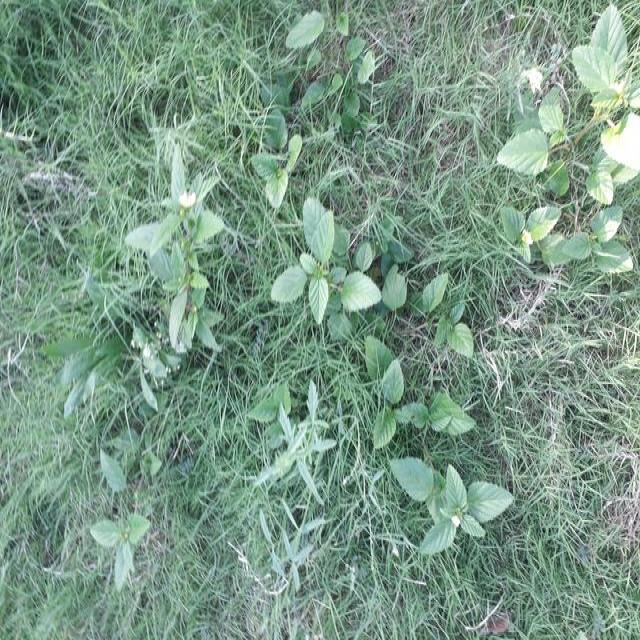weed: (136, 260, 226, 453), (551, 70, 640, 263), (145, 242, 223, 454), (262, 459, 354, 613), (292, 274, 380, 422), (407, 532, 527, 622), (133, 3, 234, 88), (275, 86, 374, 172), (378, 424, 478, 508), (390, 335, 480, 413), (94, 544, 164, 640), (246, 187, 304, 287), (296, 9, 382, 64)
